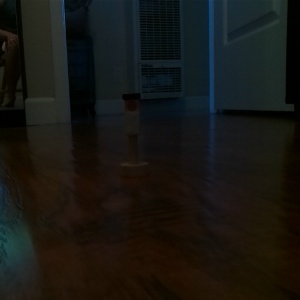traffic light red: (117, 91, 150, 178)
